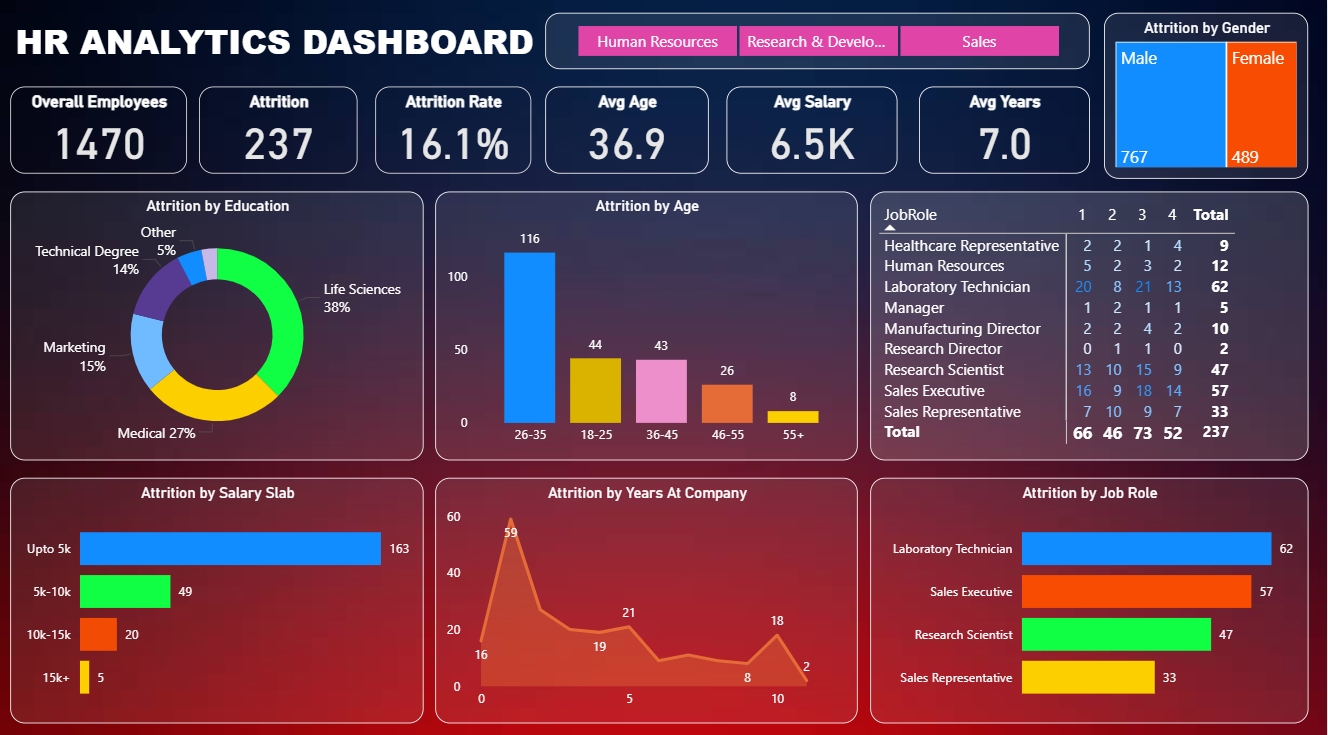

The page's visual inventory and layout, read from the dashboard file:
{"tool":"powerbi","page":{"name":"Page 1","canvas":[1280,720],"ordinal":0},"visuals":[{"type":"card","title":"Overall Employees","fields":{"Values":["CountNonNull(HR_Analytics.EmpID)"]},"box":[10.3,83.8,170.6,83.8],"z":0},{"type":"card","title":"Attrition","fields":{"Values":["Sum(HR_Analytics.AttritionCount)"]},"box":[192.6,83.8,152.9,83.8],"z":1000},{"type":"card","title":"Attrition Rate","fields":{"Values":["HR_Analytics.AttritionRate"]},"box":[363.2,83.8,150,83.8],"z":2000},{"type":"card","title":"Avg Age","fields":{"Values":["Avg(HR_Analytics.Age)"]},"box":[526.5,83.8,157.4,83.8],"z":3000},{"type":"card","title":"Avg Salary","fields":{"Values":["Avg(HR_Analytics.MonthlyIncome)"]},"box":[701.5,83.8,164.7,83.8],"z":4000},{"type":"card","title":"Avg Years","fields":{"Values":["Avg(HR_Analytics.YearsAtCompany)"]},"box":[886.8,83.8,164.7,83.8],"z":5000},{"type":"donutChart","title":"Attrition by Education","fields":{"Category":["HR_Analytics.EducationField"],"Y":["Sum(HR_Analytics.AttritionCount)"]},"box":[10.3,185.3,398.5,258.8],"z":6000},{"type":"columnChart","title":"Attrition by Age","fields":{"Category":["HR_Analytics.AgeGroup"],"Y":["Sum(HR_Analytics.AttritionCount)"]},"box":[420.6,185.3,407.4,258.8],"z":7000},{"type":"pivotTable","fields":{"Rows":["HR_Analytics.JobRole"],"Columns":["HR_Analytics.JobSatisfaction"],"Values":["Sum(HR_Analytics.AttritionCount)"]},"box":[839.7,185.3,422.1,258.8],"z":8000},{"type":"barChart","title":"Attrition by Salary Slab","fields":{"Category":["HR_Analytics.SalarySlab"],"Y":["Sum(HR_Analytics.AttritionCount)"]},"box":[10.3,461.8,398.5,236.8],"z":9000},{"type":"barChart","title":"Attrition by Job Role","fields":{"Category":["HR_Analytics.JobRole"],"Y":["Sum(HR_Analytics.AttritionCount)"]},"box":[839.7,461.8,422.1,236.8],"z":10000},{"type":"areaChart","title":"Attrition by Years At Company","fields":{"Category":["HR_Analytics.YearsAtCompany"],"Y":["Sum(HR_Analytics.AttritionCount)"]},"box":[420.6,461.8,407.4,236.8],"z":11000},{"type":"treemap","title":"Attrition by Gender","fields":{"Group":["HR_Analytics.Gender"],"Values":["CountNonNull(HR_Analytics.AttritionCount)"]},"box":[1064.7,13.2,197.1,160.3],"z":12000},{"type":"slicer","fields":{"Values":["HR_Analytics.Department"]},"box":[526.5,13.2,525,54.4],"z":13000},{"type":"textbox","box":[10.3,13.2,514.7,54.4],"z":14000}]}

Visuals, with their boxes in screenshot pixels (x1, y1, x2, y2), scaled from the page's 1280x720 canvas onto the 1328x735 screenshot:
"Overall Employees" card: [11, 86, 188, 171]
"Attrition" card: [200, 86, 358, 171]
"Attrition Rate" card: [377, 86, 532, 171]
"Avg Age" card: [546, 86, 710, 171]
"Avg Salary" card: [728, 86, 899, 171]
"Avg Years" card: [920, 86, 1091, 171]
"Attrition by Education" donutChart: [11, 189, 424, 453]
"Attrition by Age" columnChart: [436, 189, 859, 453]
pivotTable - HR_Analytics.JobRole x HR_Analytics.JobSatisfaction: [871, 189, 1309, 453]
"Attrition by Salary Slab" barChart: [11, 471, 424, 713]
"Attrition by Job Role" barChart: [871, 471, 1309, 713]
"Attrition by Years At Company" areaChart: [436, 471, 859, 713]
"Attrition by Gender" treemap: [1105, 13, 1309, 177]
slicer - HR_Analytics.Department: [546, 13, 1091, 69]
textbox: [11, 13, 545, 69]
